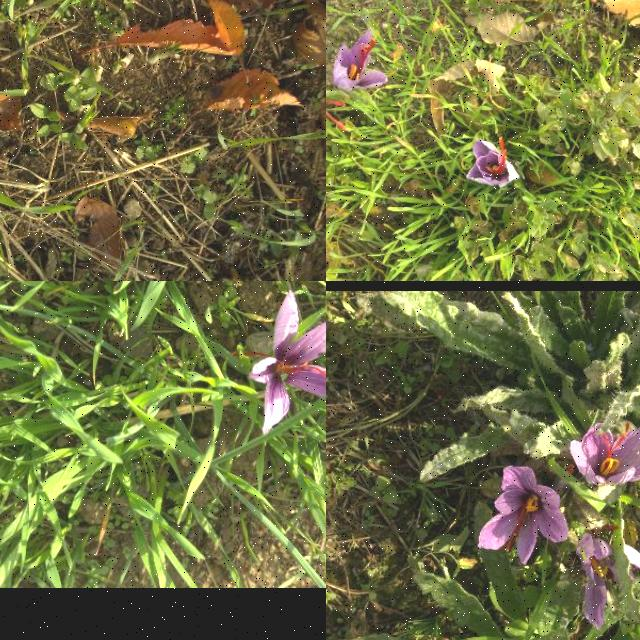flower: (233, 292, 326, 436), (477, 466, 569, 564), (575, 533, 640, 630), (570, 422, 640, 485), (334, 27, 388, 91), (467, 138, 521, 186)
